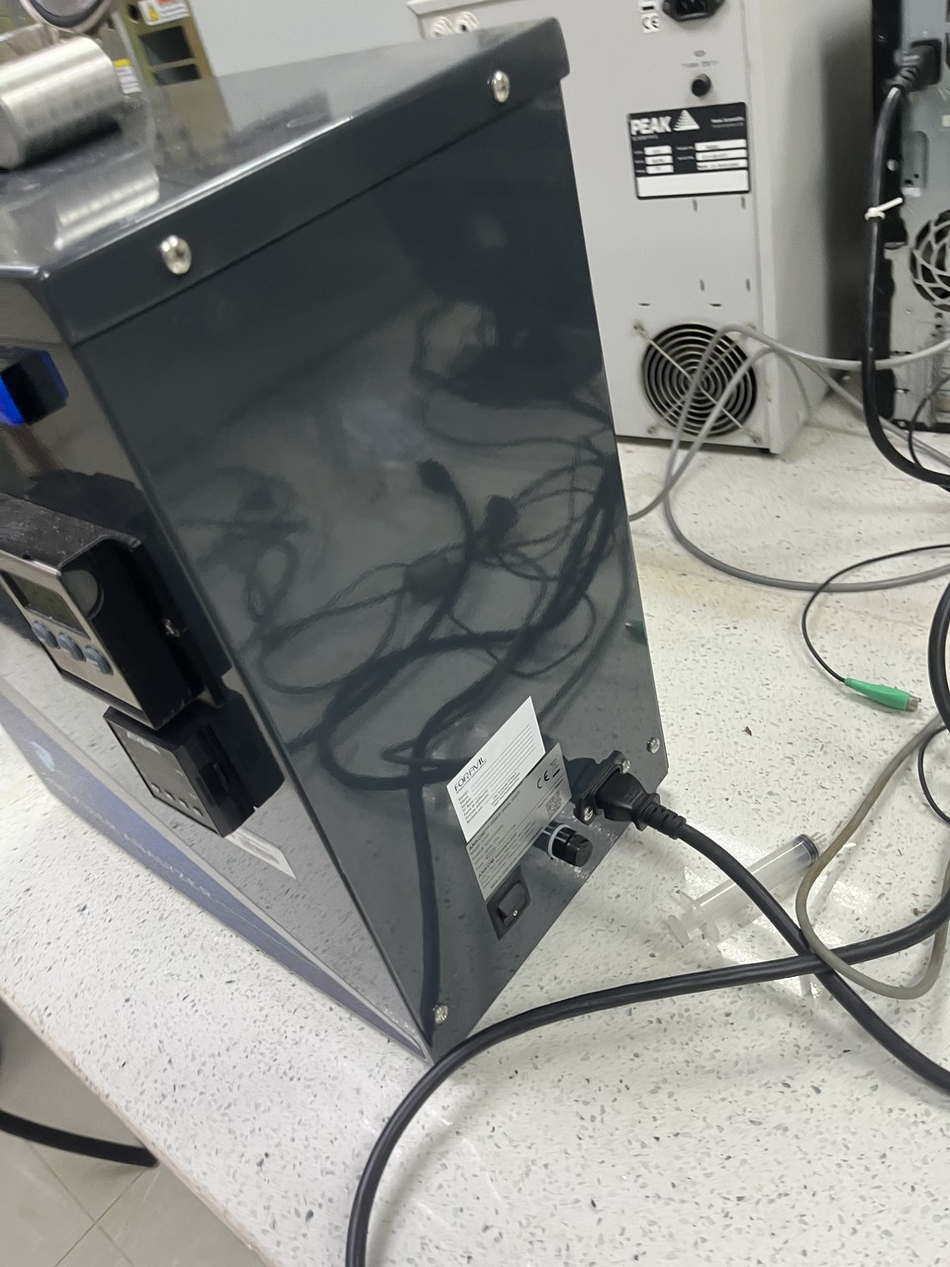ankom_200_fiber_analyzer: (7, 0, 678, 1117)
